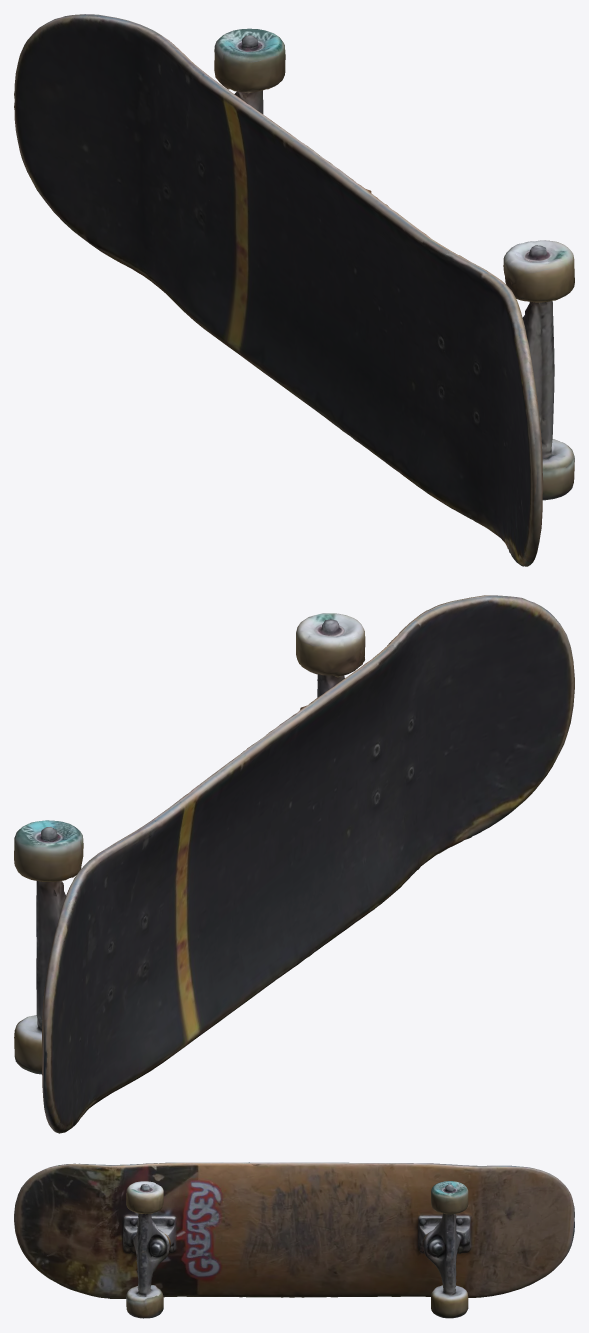
Rendered from skateboard-01.glb.
The picture shows the model from 3 angles, top to bottom: view 1: azimuth 30°, elevation 25°; view 2: azimuth 150°, elevation 25°; view 3: azimuth 270°, elevation 25°; orthographic projection. The views are drawn at different scales.
Parts seen in each view (by area): view 1: Skateboard_05; view 2: Skateboard_05; view 3: Skateboard_05.
Boxes of the visible parts, x1,y1,x2,y2 form: Skateboard_05: [14, 14, 574, 566]; Skateboard_05: [14, 595, 574, 1133]; Skateboard_05: [14, 1162, 574, 1318].
Size of the model in its own units: 0.3442 by 0.5291 by 2.
1 material, 1 textured.
